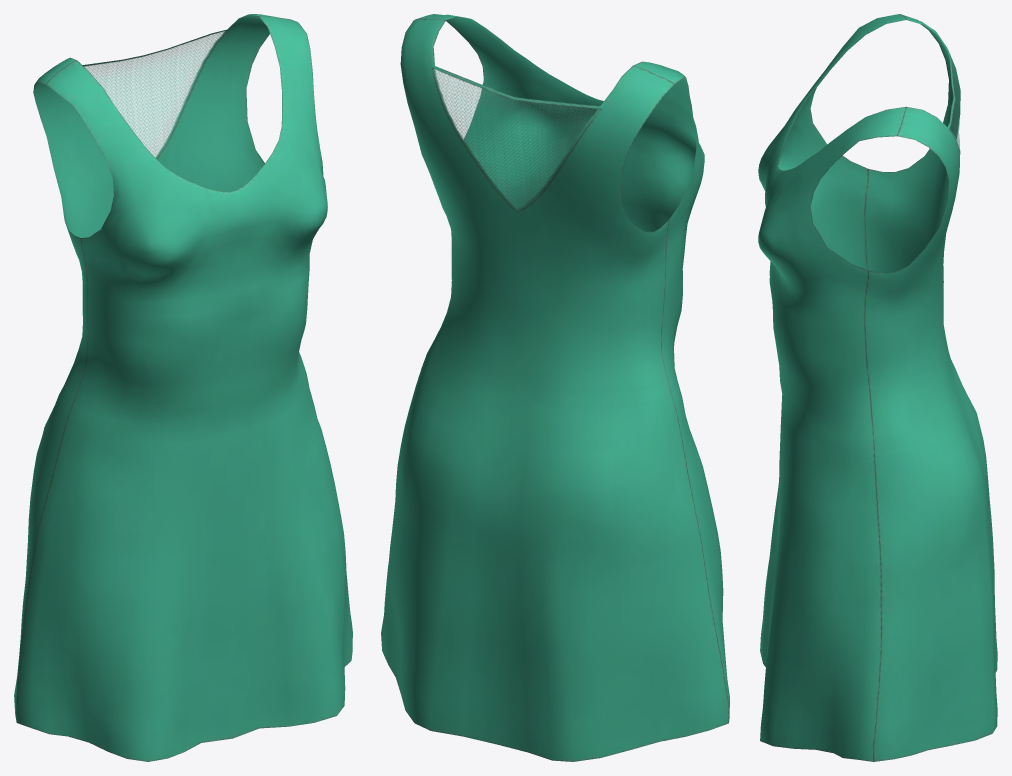
Rendered from mindfront-f-dress-02.glb.
3 renders of one model, left to right at view 1: azimuth 30°, elevation 25°; view 2: azimuth 150°, elevation 25°; view 3: azimuth 270°, elevation 25°, orthographic. The views are drawn at different scales.
Visible parts, largest first — view 1: Human.mindfront_f_dress_02; view 2: Human.mindfront_f_dress_02; view 3: Human.mindfront_f_dress_02.
Part boxes in pixels (box(x1,y1,x2,y2)): Human.mindfront_f_dress_02: box(14, 14, 352, 761); Human.mindfront_f_dress_02: box(381, 14, 729, 761); Human.mindfront_f_dress_02: box(758, 14, 997, 761).
Bounding box in the file's own units: 0.4367 × 0.813 × 0.276.
1 material, 1 textured.
